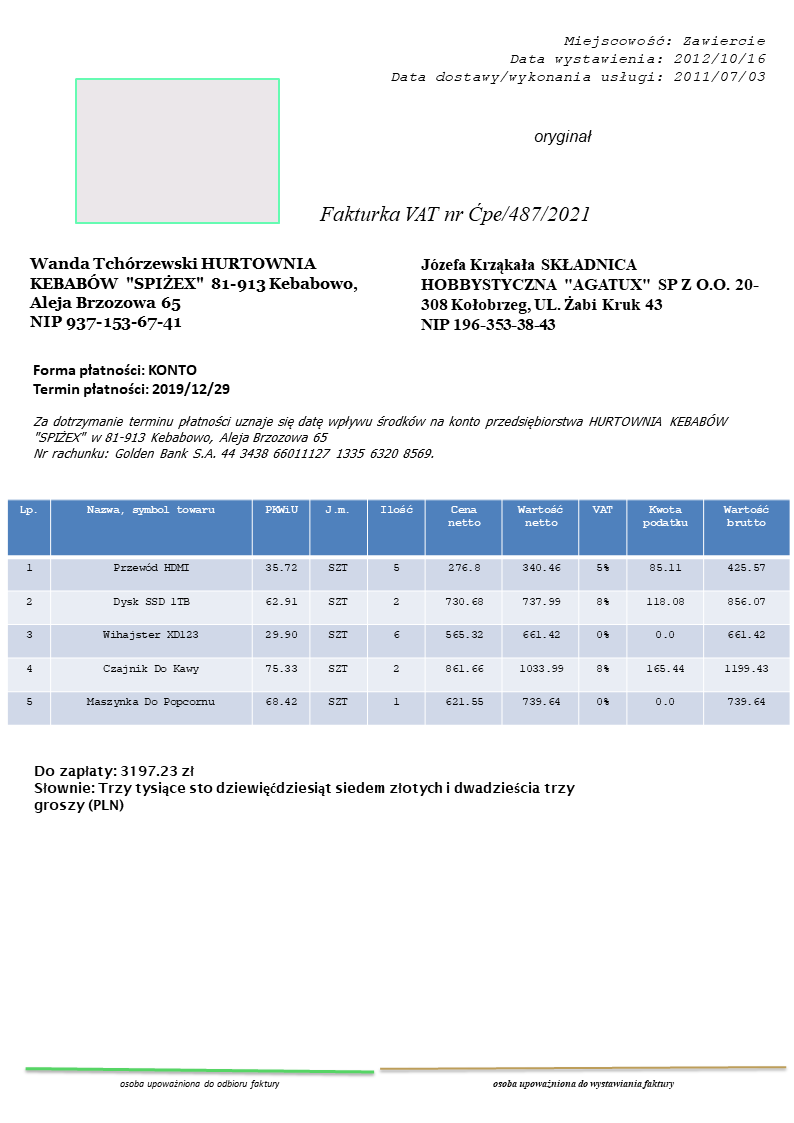Table: (5, 497, 790, 727)
TextBox: (29, 413, 733, 462), (31, 762, 576, 815), (417, 254, 767, 334), (24, 250, 362, 332), (384, 29, 770, 88), (29, 360, 232, 399), (313, 200, 591, 227), (489, 1074, 677, 1092), (117, 1075, 283, 1092), (532, 127, 594, 148)
